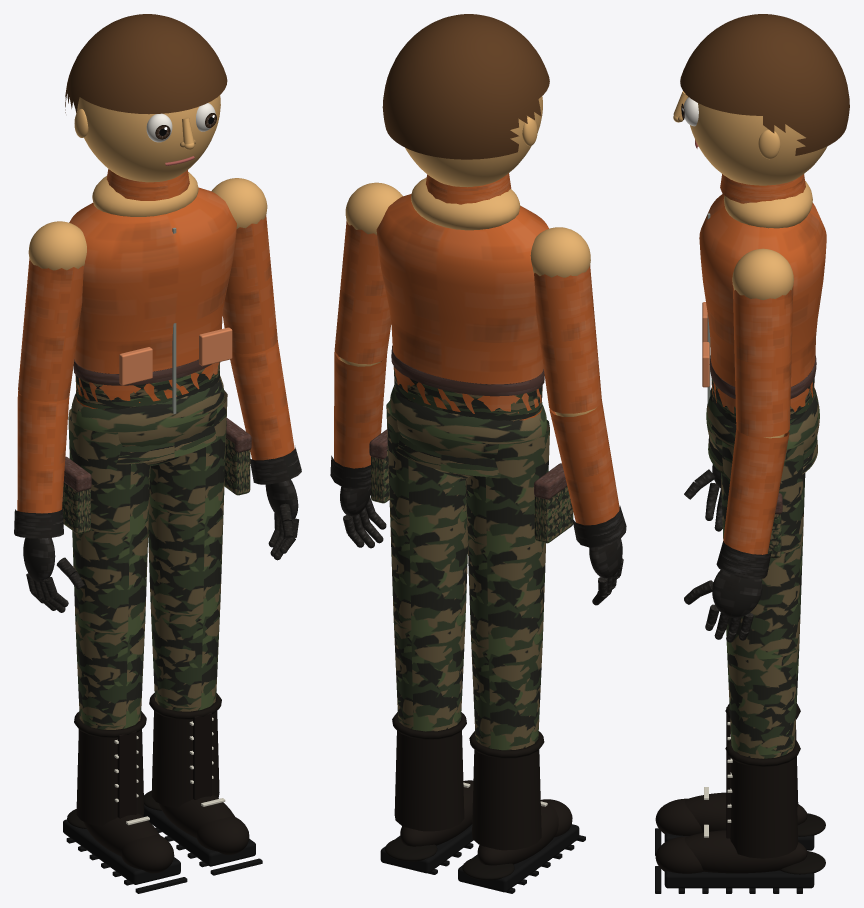
Rendered from 04-gants-de-travail.glb.
The picture shows the model from 3 angles, left to right: view 1: azimuth 30°, elevation 25°; view 2: azimuth 150°, elevation 25°; view 3: azimuth 270°, elevation 25°; orthographic projection. The views are drawn at different scales.
Size of the model in its own units: 0.6358 by 1.77 by 0.3715.
23 materials, 5 textured.
